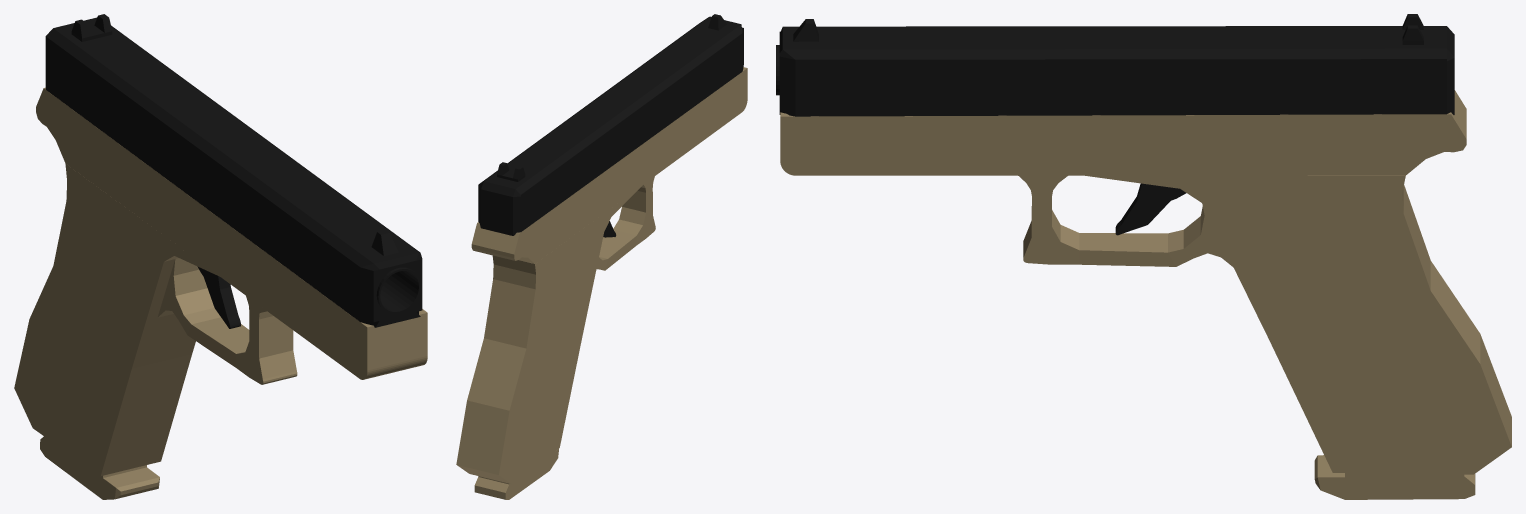
The model's file is glock3.0færdig-hedeEdit.fbx.
The picture shows the model from 3 angles, left to right: view 1: azimuth 30°, elevation 25°; view 2: azimuth 150°, elevation 25°; view 3: azimuth 270°, elevation 25°; orthographic projection. The views are drawn at different scales.
Parts seen in each view (by area): view 1: gun-body, gun-head, gun-mag, gun-trigger; view 2: gun-body, gun-head, gun-mag; view 3: gun-body, gun-head, gun-mag, gun-trigger.
Part boxes in pixels (x1=…): gun-body: x1=14, y1=87, x2=427, y2=475; gun-head: x1=45, y1=14, x2=422, y2=327; gun-mag: x1=40, y1=436, x2=159, y2=499; gun-trigger: x1=197, y1=266, x2=240, y2=328; gun-body: x1=456, y1=67, x2=747, y2=484; gun-head: x1=478, y1=14, x2=743, y2=235; gun-mag: x1=474, y1=449, x2=558, y2=499; gun-body: x1=776, y1=45, x2=1511, y2=474; gun-head: x1=779, y1=14, x2=1454, y2=116; gun-mag: x1=1314, y1=455, x2=1475, y2=499; gun-trigger: x1=1115, y1=183, x2=1186, y2=235.
Bounding box in the file's own units: 2 × 14.3 × 20.39.
